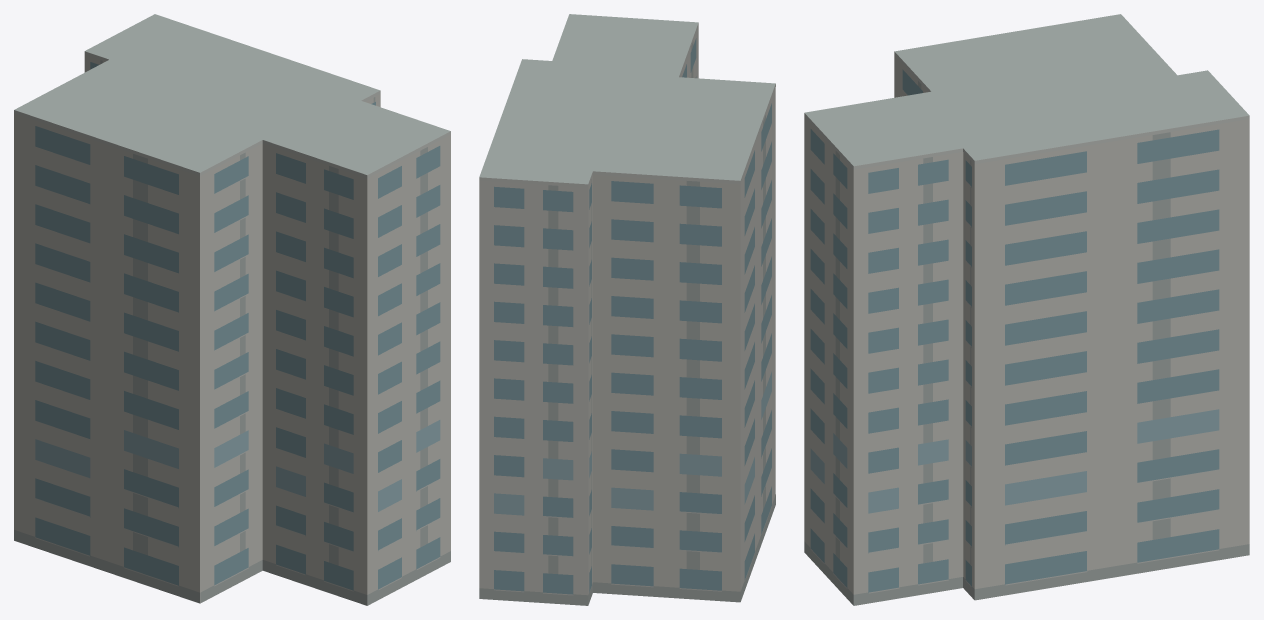
The model's file is residential-5dde448d-ec41-480b-b86b-7cb2ae7682fb.glb.
The picture shows the model from 3 angles, left to right: view 1: azimuth 30°, elevation 25°; view 2: azimuth 150°, elevation 25°; view 3: azimuth 270°, elevation 25°; orthographic projection. The views are drawn at different scales.
Parts seen in each view (by area): view 1: residential-5dde448d-ec41-480b-b86b-7cb2ae7682fb.tmp; view 2: residential-5dde448d-ec41-480b-b86b-7cb2ae7682fb.tmp; view 3: residential-5dde448d-ec41-480b-b86b-7cb2ae7682fb.tmp.
Part boxes in pixels (x1,y1,x2,y2): residential-5dde448d-ec41-480b-b86b-7cb2ae7682fb.tmp: (14, 14, 450, 605); residential-5dde448d-ec41-480b-b86b-7cb2ae7682fb.tmp: (479, 14, 775, 605); residential-5dde448d-ec41-480b-b86b-7cb2ae7682fb.tmp: (804, 14, 1249, 605).
Size of the model in its own units: 22.31 by 30 by 27.56.
